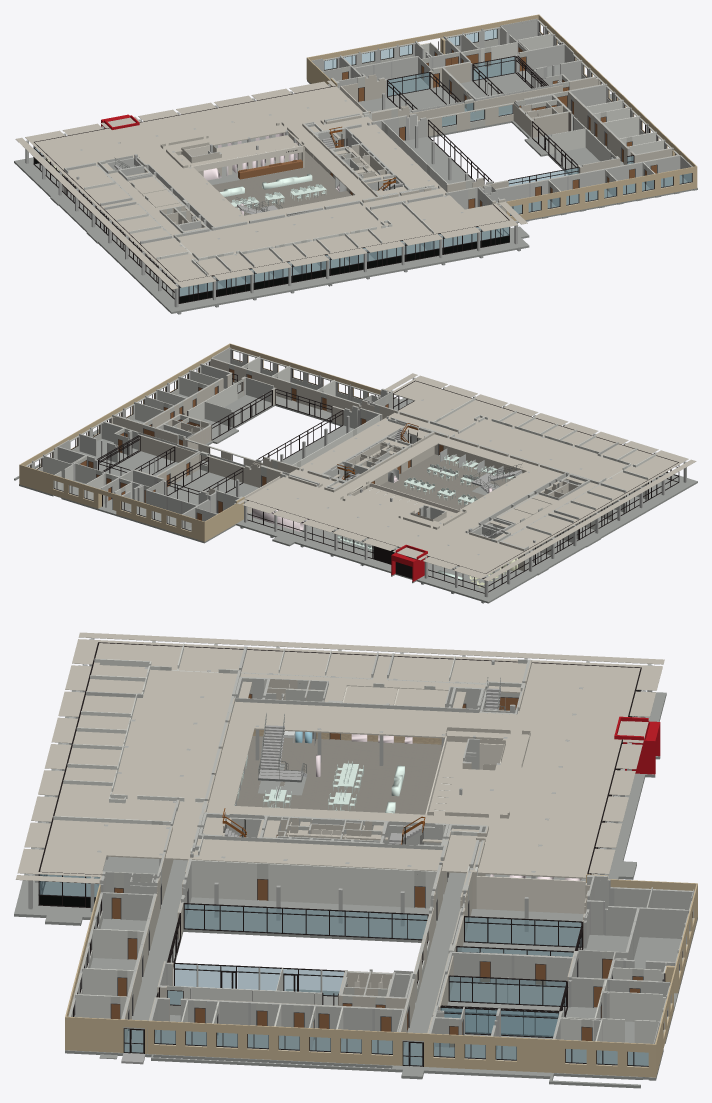
The model's file is tib_eg.glb.
The picture shows the model from 3 angles, top to bottom: view 1: azimuth 30°, elevation 25°; view 2: azimuth 150°, elevation 25°; view 3: azimuth 270°, elevation 25°; orthographic projection. The views are drawn at different scales.
Parts seen in each view (by area): view 1: tib_eg__TIB Farbe 205-200-190, tib_eg__TIB Glas 150-190-210, tib_eg__TIB Farbe 165-165-162, tib_eg__TIB Glas getoent 16-16-18, tib_eg__TIB Moebel reading_chair; view 2: tib_eg__TIB Farbe 205-200-190, tib_eg__TIB Farbe 165-165-162, tib_eg__TIB Moebel reading_chair; view 3: tib_eg__TIB Farbe 205-200-190, tib_eg__TIB Glas 150-190-210, tib_eg__TIB Farbe 165-165-162, tib_eg__TIB Moebel reading_chair.
Part boxes in pixels (x1=…): tib_eg__TIB Farbe 205-200-190: x1=14, y1=14, x2=697, y2=314; tib_eg__TIB Glas 150-190-210: x1=34, y1=29, x2=691, y2=296; tib_eg__TIB Farbe 165-165-162: x1=212, y1=151, x2=351, y2=215; tib_eg__TIB Glas getoent 16-16-18: x1=34, y1=156, x2=509, y2=303; tib_eg__TIB Moebel reading_chair: x1=45, y1=132, x2=346, y2=215; tib_eg__TIB Farbe 205-200-190: x1=14, y1=343, x2=697, y2=603; tib_eg__TIB Farbe 165-165-162: x1=380, y1=454, x2=512, y2=509; tib_eg__TIB Moebel reading_chair: x1=252, y1=448, x2=522, y2=587; tib_eg__TIB Farbe 205-200-190: x1=14, y1=632, x2=697, y2=1088; tib_eg__TIB Glas 150-190-210: x1=39, y1=690, x2=648, y2=1065; tib_eg__TIB Farbe 165-165-162: x1=236, y1=736, x2=441, y2=814; tib_eg__TIB Moebel reading_chair: x1=235, y1=731, x2=581, y2=880.
Size of the model in its own units: 89.29 by 5.59 by 61.4.
6 materials, 6 textured.
